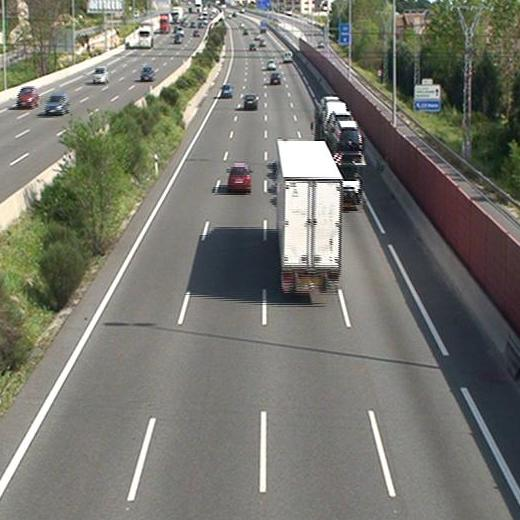car: (330, 121, 363, 156), (227, 163, 253, 192), (244, 93, 258, 109), (220, 83, 233, 96), (270, 73, 281, 84), (265, 59, 276, 69)
truck: (274, 140, 340, 295), (314, 108, 364, 209)
van: (282, 50, 292, 63)
